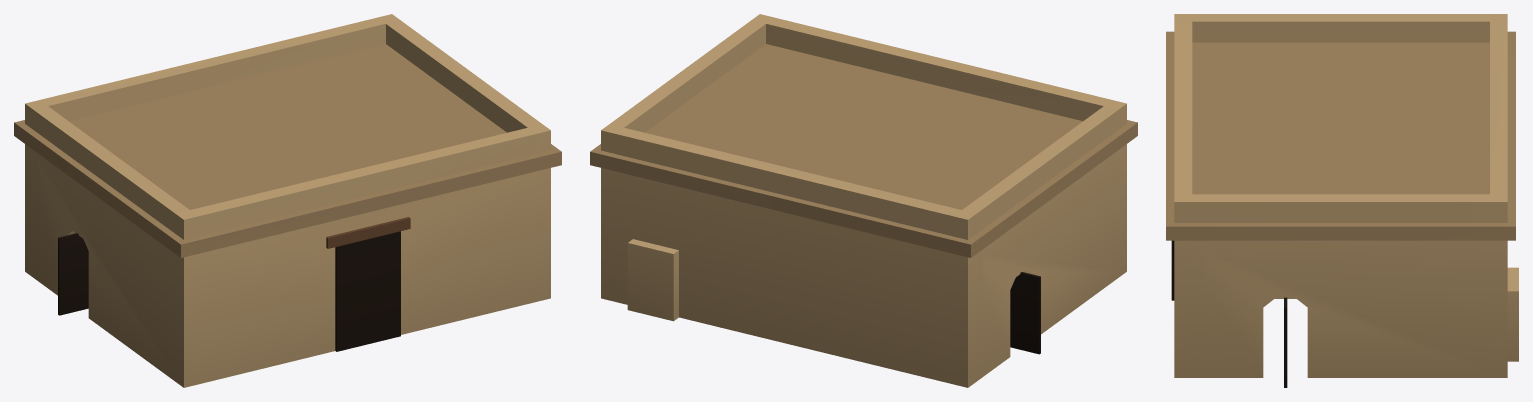
The model's file is republic_adobe_house_lod1.glb.
3 views of the same model, side by side, from view 1: azimuth 30°, elevation 25°; view 2: azimuth 150°, elevation 25°; view 3: azimuth 270°, elevation 25° (orthographic). The views are drawn at different scales.
Visible parts, largest first — view 1: GEO-Arch_republic_adobe_house_LOD1; view 2: GEO-Arch_republic_adobe_house_LOD1; view 3: GEO-Arch_republic_adobe_house_LOD1.
Boxes of the visible parts, x1,y1,x2,y2 form: GEO-Arch_republic_adobe_house_LOD1: (14, 14, 561, 387); GEO-Arch_republic_adobe_house_LOD1: (590, 14, 1137, 387); GEO-Arch_republic_adobe_house_LOD1: (1166, 14, 1518, 387).
Size of the model in its own units: 8.84 by 3.5 by 6.35.
